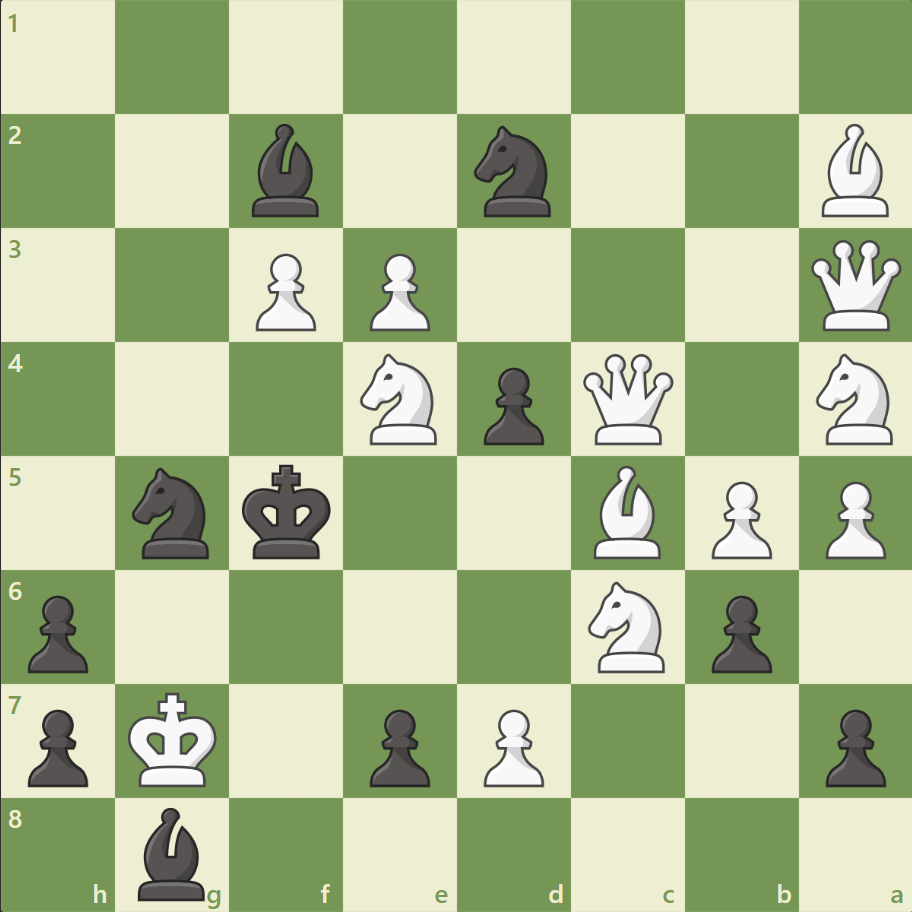B: (585, 460, 669, 563), (812, 120, 896, 222)
K: (124, 685, 224, 793)
N: (351, 348, 449, 450), (579, 575, 676, 677), (806, 348, 903, 450)
P: (474, 700, 549, 791), (701, 473, 776, 564), (247, 246, 322, 337), (815, 473, 889, 564), (361, 246, 435, 337)
Q: (578, 349, 677, 449), (805, 236, 904, 335)
b: (131, 801, 215, 904), (244, 120, 328, 222)
k: (238, 458, 338, 566)
n: (124, 461, 222, 564), (465, 121, 562, 223)
p: (20, 700, 95, 791), (701, 586, 776, 677), (20, 586, 95, 677), (474, 359, 549, 450), (815, 700, 889, 791), (361, 700, 435, 791)
